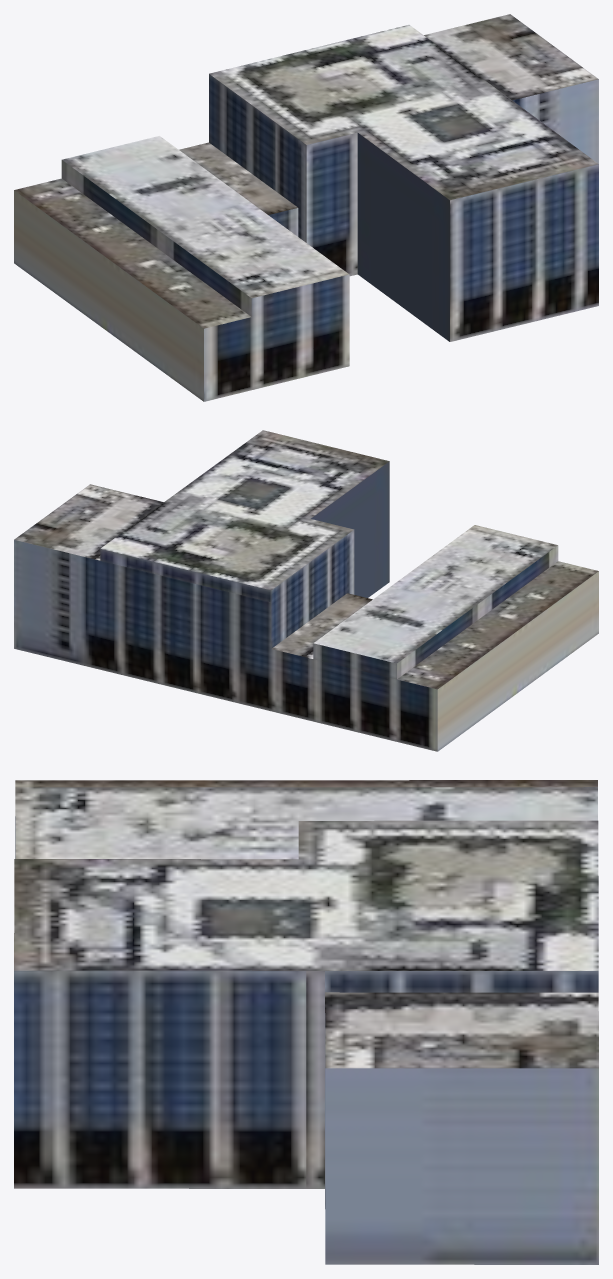
3 renders of one model, top to bottom at view 1: azimuth 30°, elevation 25°; view 2: azimuth 150°, elevation 25°; view 3: azimuth 270°, elevation 25°, orthographic. The views are drawn at different scales.
Parts seen in each view (by area): view 1: b97; view 2: b97; view 3: b97.
Part boxes in pixels (x1=…): b97: x1=14, y1=14, x2=598, y2=401; b97: x1=14, y1=430, x2=598, y2=751; b97: x1=14, y1=780, x2=598, y2=1264.
Size of the model in its own units: 76.92 by 21 by 51.06.
Materials: 1 (1 with a texture image).
